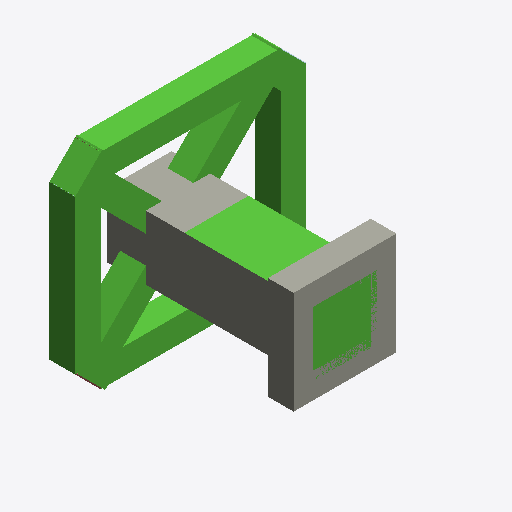
Isometric view (azimuth 45°, elevation 35.3°) of a Minecraft model made of 15 cuboids, textured from the same repository.
Visible parts, largest first — tubes (×9), Base (×5).
Boxes of the visible parts, x1,y1,x2,y2 form: tubes (×9): [49, 33, 305, 389]; Base (×5): [107, 151, 395, 411].
Bounding box in the file's own units: 18.17 × 16.32 × 16.